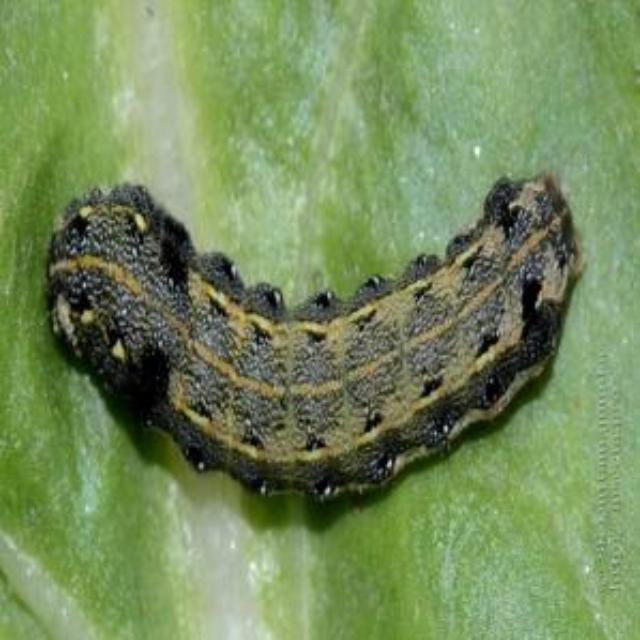Tobacco cutworm: (36, 119, 622, 529)
